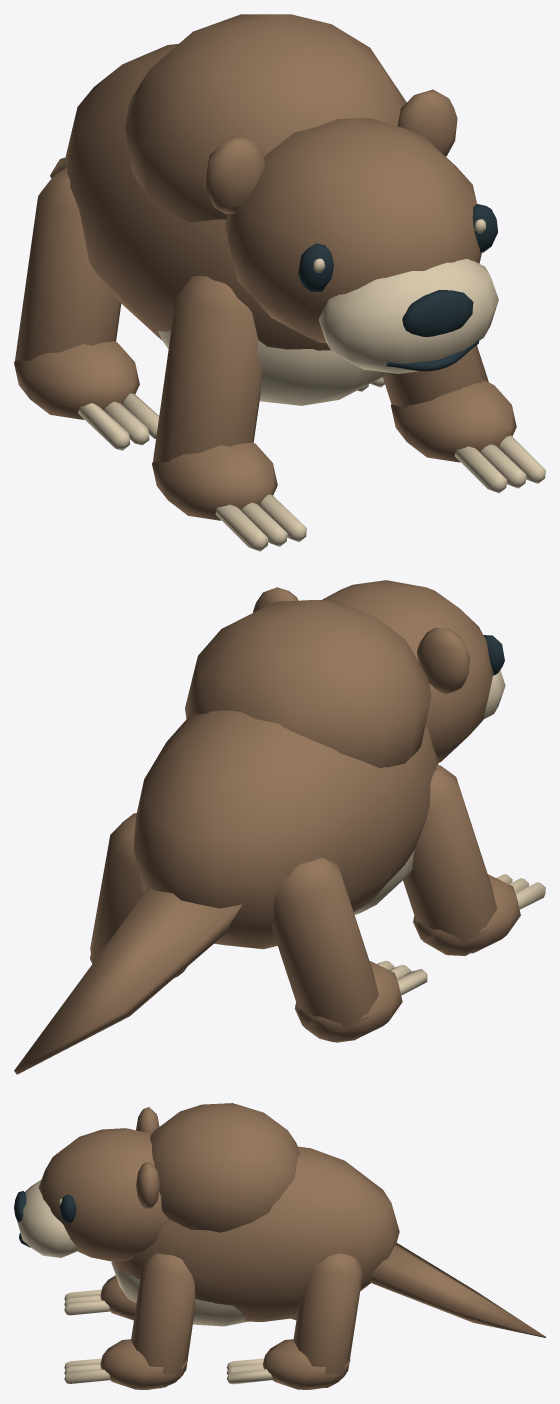
Rendered from org_groundsloth.glb.
3 renders of one model, top to bottom at view 1: azimuth 30°, elevation 25°; view 2: azimuth 150°, elevation 25°; view 3: azimuth 270°, elevation 25°, orthographic. The views are drawn at different scales.
Parts seen in each view (by area): view 1: Body, Head, Leg_FL, Leg_BL, Leg_FR, Eye_L, Eye_R; view 2: Body, Leg_BL, Tail, Leg_FL, Head, Leg_BR; view 3: Body, Head, Leg_BR, Leg_FR, Tail, Leg_FL, Eye_R.
Part boxes in pixels (bbox=[...]): Body: bbox=[65, 14, 406, 405]; Head: bbox=[204, 89, 498, 373]; Leg_FL: bbox=[152, 275, 306, 551]; Leg_BL: bbox=[14, 167, 159, 450]; Leg_FR: bbox=[383, 345, 545, 493]; Eye_L: bbox=[298, 243, 333, 291]; Eye_R: bbox=[472, 204, 497, 252]; Body: bbox=[134, 600, 438, 949]; Leg_BL: bbox=[271, 858, 427, 1042]; Tail: bbox=[14, 886, 242, 1074]; Leg_FL: bbox=[403, 764, 545, 955]; Head: bbox=[253, 580, 505, 762]; Leg_BR: bbox=[90, 813, 186, 977]; Body: bbox=[111, 1103, 399, 1326]; Head: bbox=[14, 1107, 168, 1261]; Leg_BR: bbox=[226, 1253, 362, 1389]; Leg_FR: bbox=[64, 1253, 195, 1389]; Tail: bbox=[369, 1243, 545, 1337]; Leg_FL: bbox=[64, 1275, 136, 1320]; Eye_R: bbox=[59, 1194, 76, 1223].
Size of the model in its own units: 1.58 by 1.8 by 3.63.
